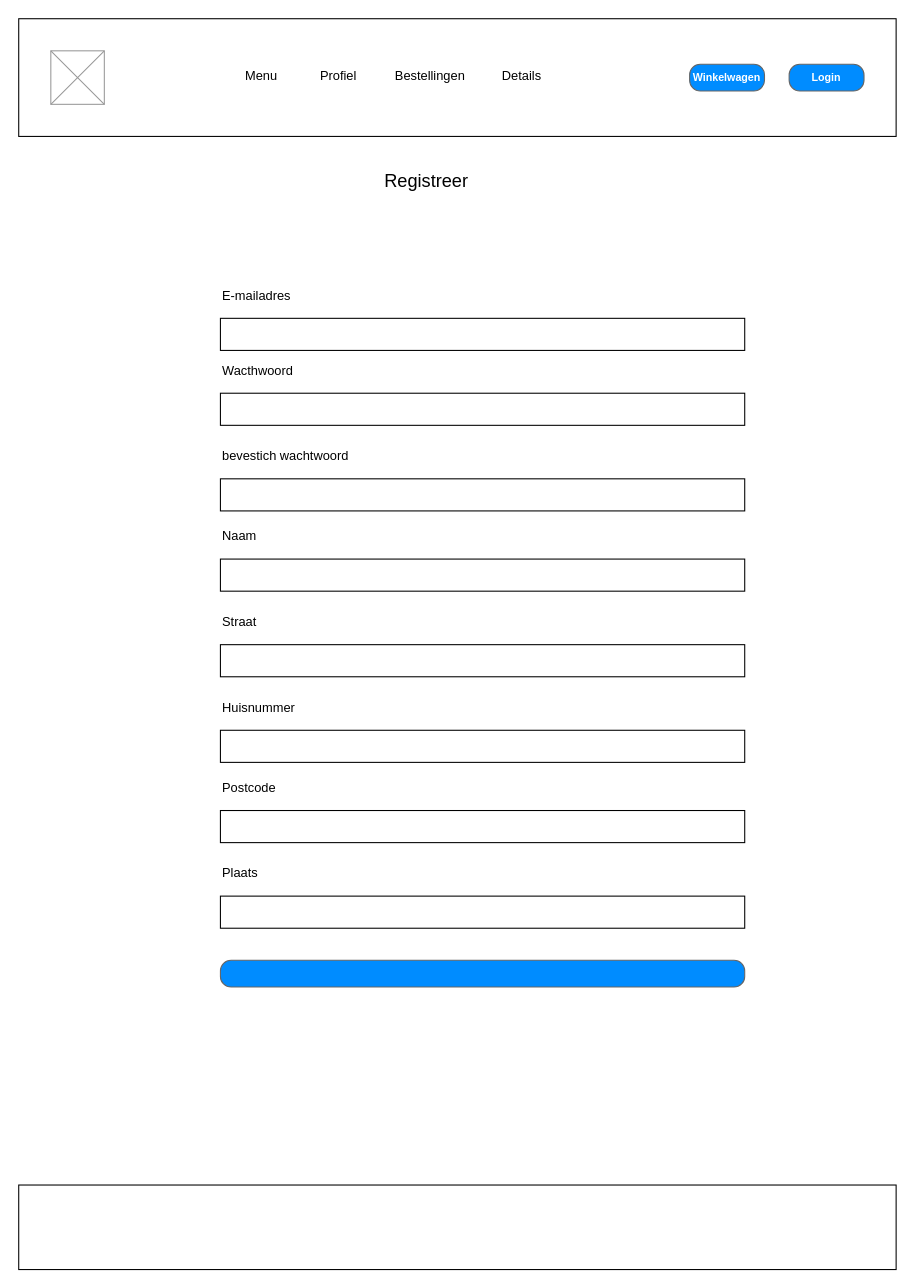
Some shapes in this 915 by 1288 pixel diagram are drawn without their labels. The centre of each missing label's shape, as x and y in pixels:
"Privacy .............." goes at point 457,1227.
"Registreren" goes at point 482,973.
